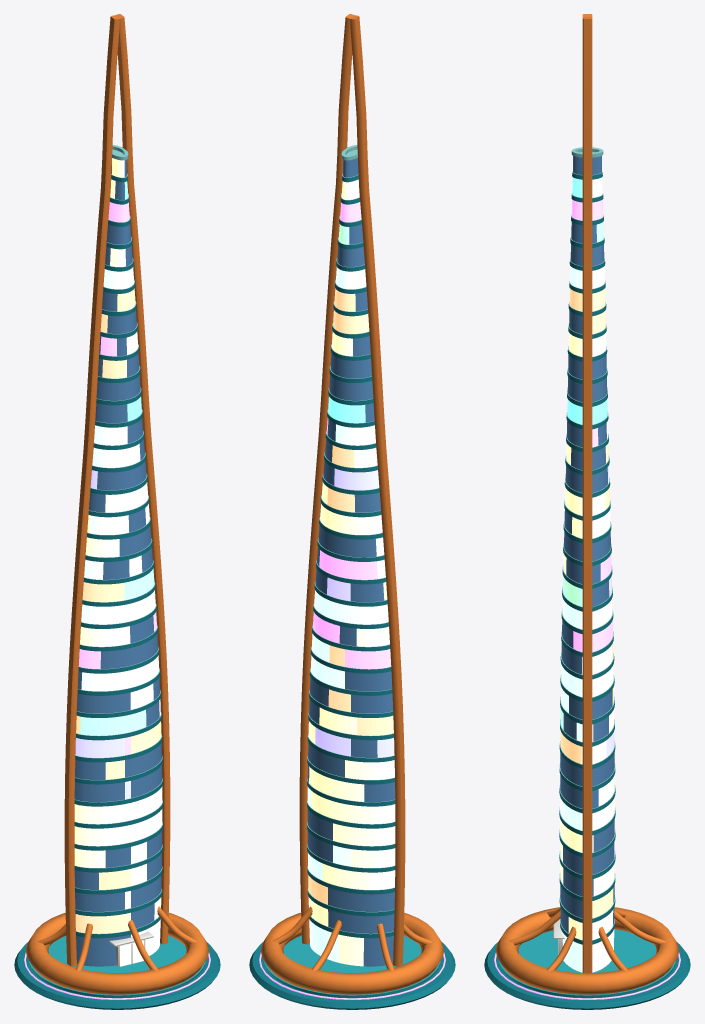
The model's file is arranha_ceu_lanca_costelas.glb.
3 views of the same model, side by side, from view 1: azimuth 30°, elevation 25°; view 2: azimuth 150°, elevation 25°; view 3: azimuth 270°, elevation 25° (orthographic).
Parts seen in each view (by area): view 1: arranha_ceu_lanca_costelas; view 2: arranha_ceu_lanca_costelas; view 3: arranha_ceu_lanca_costelas.
Boxes of the visible parts, x1,y1,x2,y2 form: arranha_ceu_lanca_costelas: (14,14,220,1009); arranha_ceu_lanca_costelas: (249,14,455,1009); arranha_ceu_lanca_costelas: (484,14,690,1009).
Size of the model in its own units: 27.2 by 138 by 27.2.
Materials: 11 (1 with a texture image).
